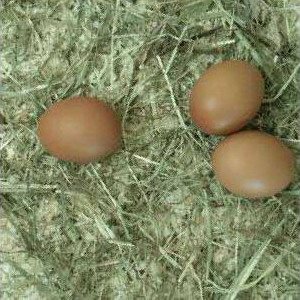egg: (211, 130, 296, 199), (189, 59, 267, 133), (38, 97, 123, 162)
